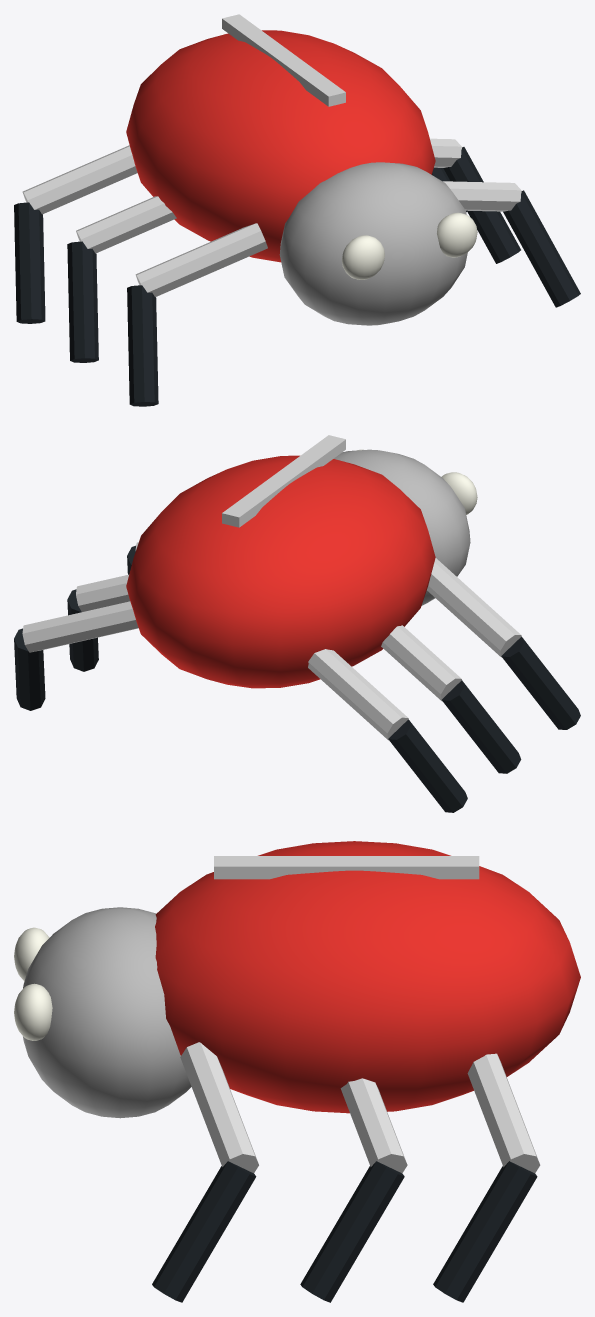
The model's file is enemy-bug.glb.
3 renders of one model, top to bottom at view 1: azimuth 30°, elevation 25°; view 2: azimuth 150°, elevation 25°; view 3: azimuth 270°, elevation 25°, orthographic. The views are drawn at different scales.
Visible parts, largest first — view 1: enemy-bug; view 2: enemy-bug; view 3: enemy-bug.
Part boxes in pixels (left/top/right/bottom): enemy-bug: left=14, top=14, right=580, bottom=406; enemy-bug: left=14, top=435, right=580, bottom=812; enemy-bug: left=14, top=841, right=580, bottom=1302.
Size of the model in its own units: 0.8212 by 0.4421 by 0.726.
